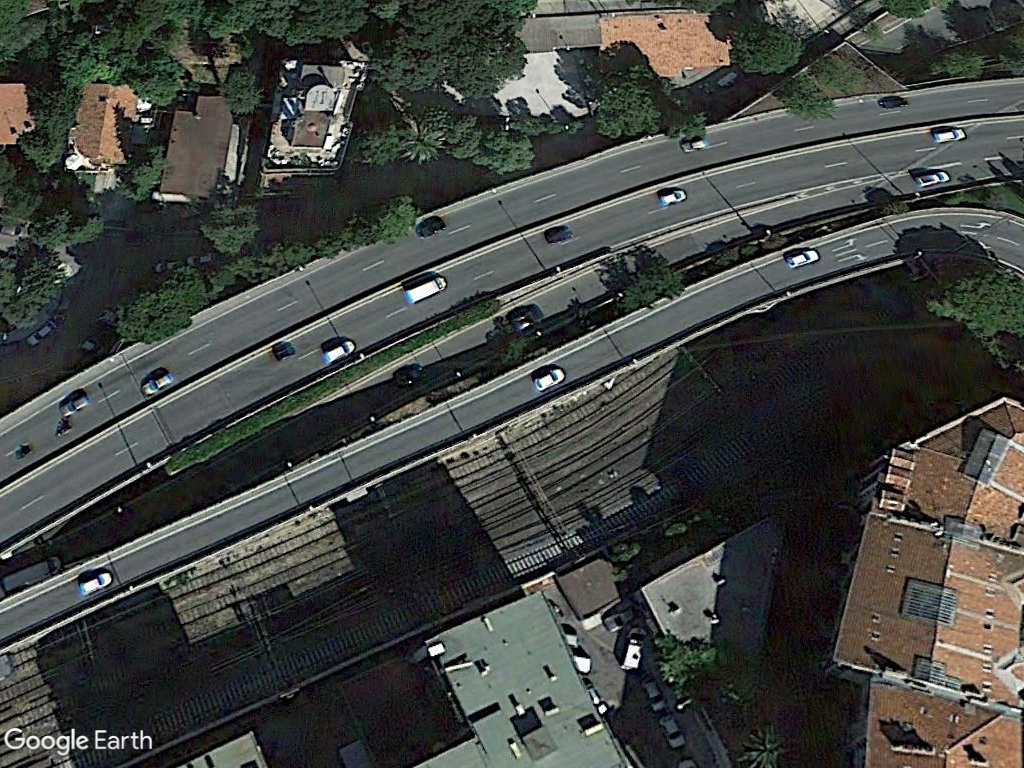car: (784, 243, 818, 268)
